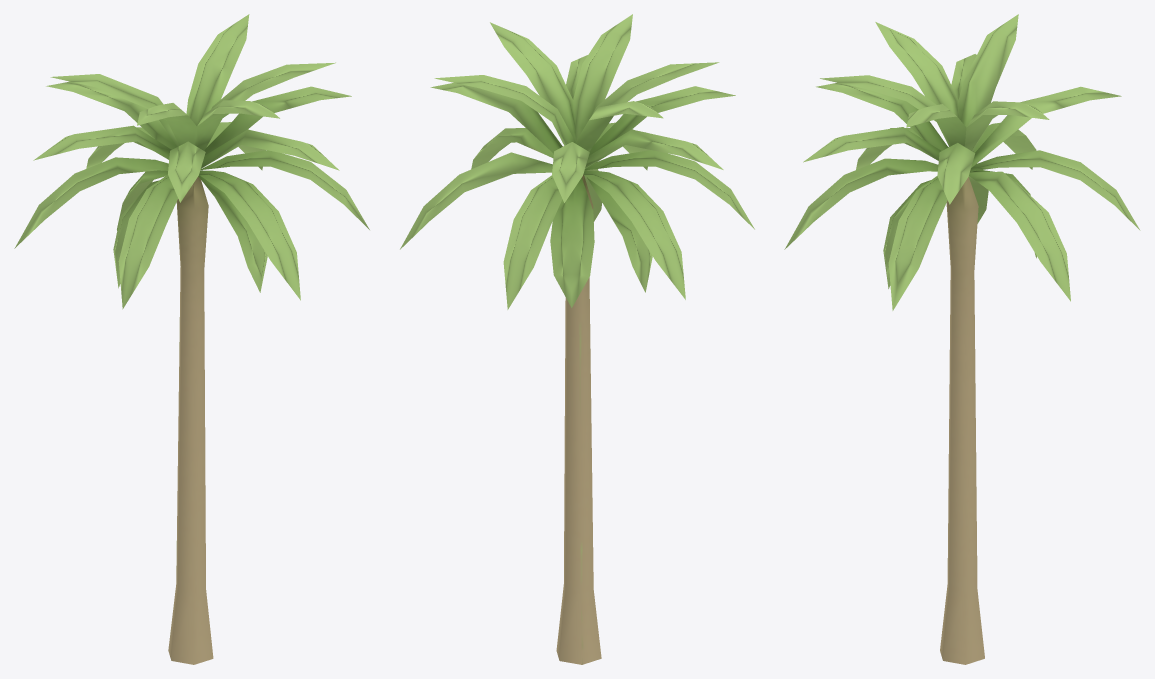
3 renders of one model, left to right at view 1: azimuth 30°, elevation 25°; view 2: azimuth 150°, elevation 25°; view 3: azimuth 270°, elevation 25°, orthographic.
Visible parts, largest first — view 1: Palm1.002; view 2: Palm1.002; view 3: Palm1.002.
Part boxes in pixels (left/top/right/bottom): Palm1.002: left=14, top=14, right=369, bottom=664; Palm1.002: left=400, top=14, right=754, bottom=664; Palm1.002: left=784, top=14, right=1140, bottom=664.
Size of the model in its own units: 10.96 by 19.97 by 11.02.
Materials: 1 (1 with a texture image).
